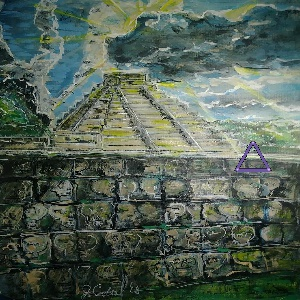triangle: (231, 139, 273, 176)
